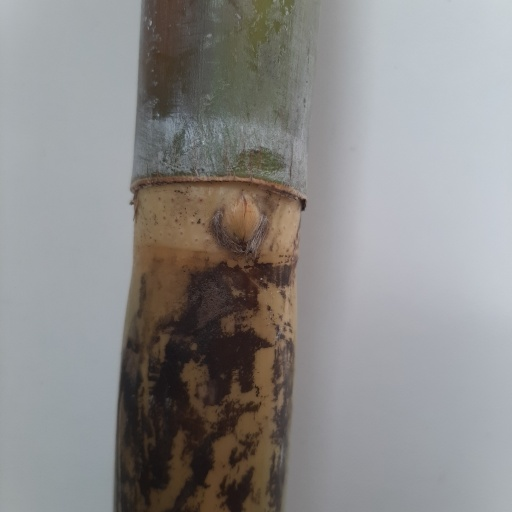Bud: (218, 188, 263, 253)
